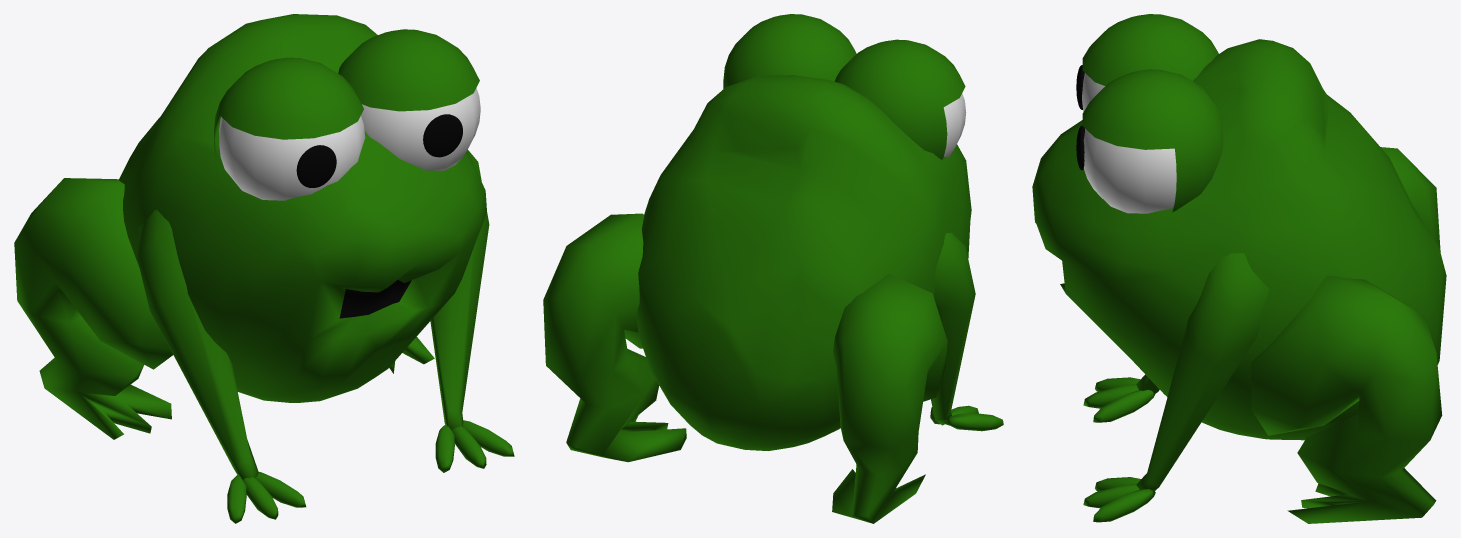
Rendered from cloutchaser kikker.fbx.
3 renders of one model, left to right at view 1: azimuth 30°, elevation 25°; view 2: azimuth 150°, elevation 25°; view 3: azimuth 270°, elevation 25°, orthographic. The views are drawn at different scales.
Parts seen in each view (by area): view 1: Sphere, Cube, Cylinder, Sphere.006, Sphere.005, Sphere.002, Sphere.001, Cube.001, Cube.006, Sphere.004, Sphere.003; view 2: Sphere, Cube, Sphere.006, Sphere.005, Cylinder, Cube.006, Sphere.002; view 3: Sphere, Cube, Cylinder, Sphere.005, Sphere.006, Sphere.001, Cube.001, Cube.006.
Boxes of the visible parts, x1=… form: Sphere: x1=119, y1=14, x2=486, y2=402; Cube: x1=14, y1=178, x2=434, y2=439; Cylinder: x1=137, y1=149, x2=489, y2=479; Sphere.006: x1=214, y1=57, x2=363, y2=172; Sphere.005: x1=338, y1=29, x2=479, y2=111; Sphere.002: x1=219, y1=116, x2=365, y2=200; Sphere.001: x1=361, y1=88, x2=480, y2=170; Cube.001: x1=435, y1=420, x2=514, y2=472; Cube.006: x1=227, y1=472, x2=306, y2=523; Sphere.004: x1=296, y1=145, x2=336, y2=187; Sphere.003: x1=423, y1=114, x2=462, y2=157; Sphere: x1=636, y1=75, x2=971, y2=450; Cube: x1=543, y1=213, x2=947, y2=523; Sphere.006: x1=834, y1=39, x2=965, y2=159; Sphere.005: x1=723, y1=14, x2=856, y2=88; Cylinder: x1=931, y1=232, x2=975, y2=425; Cube.006: x1=930, y1=405, x2=1003, y2=431; Sphere.002: x1=943, y1=93, x2=966, y2=157; Sphere: x1=1032, y1=39, x2=1446, y2=440; Cube: x1=1251, y1=147, x2=1442, y2=523; Cylinder: x1=1136, y1=253, x2=1269, y2=490; Sphere.005: x1=1082, y1=69, x2=1223, y2=212; Sphere.006: x1=1082, y1=14, x2=1218, y2=85; Sphere.001: x1=1083, y1=128, x2=1176, y2=213; Cube.001: x1=1083, y1=477, x2=1155, y2=522; Cube.006: x1=1083, y1=377, x2=1155, y2=422.
Bounding box in the file's own units: 79.66 × 79.03 × 72.31.
